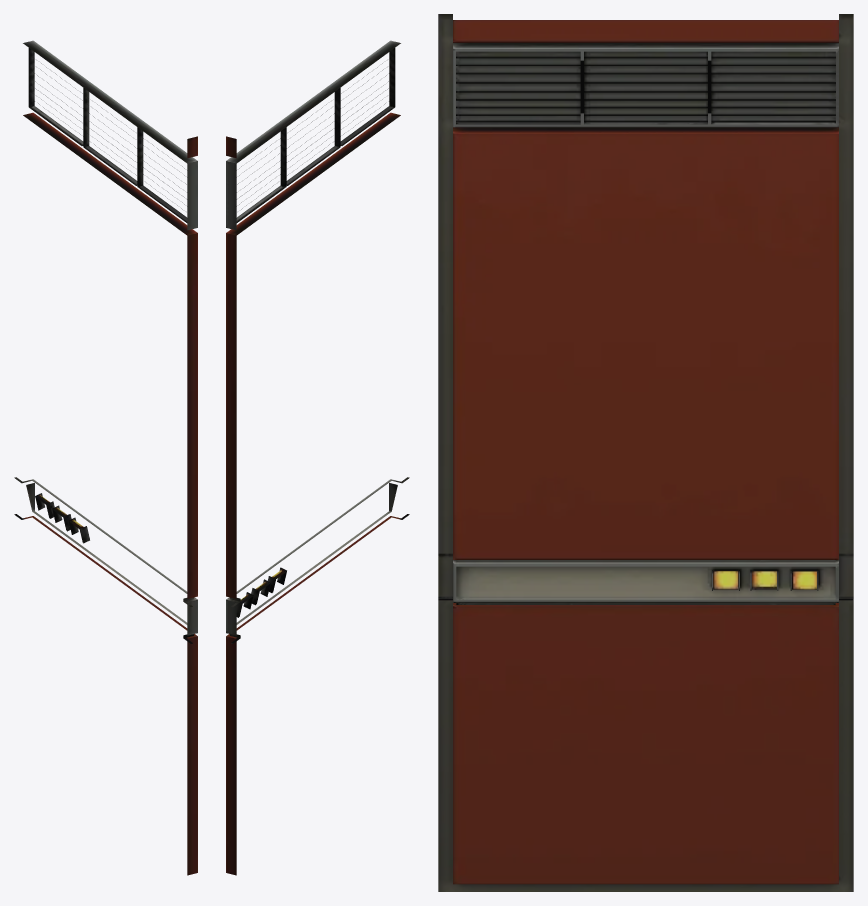
3 renders of one model, left to right at view 1: azimuth 30°, elevation 25°; view 2: azimuth 150°, elevation 25°; view 3: azimuth 270°, elevation 25°, orthographic. The views are drawn at different scales.
Parts seen in each view (by area): view 1: body0_model0_lod0_mesh0; view 2: body0_model0_lod0_mesh0; view 3: body0_model0_lod0_mesh0.
Boxes of the visible parts, bbox=[...] form: body0_model0_lod0_mesh0: bbox=[14, 40, 197, 875]; body0_model0_lod0_mesh0: bbox=[226, 40, 409, 875]; body0_model0_lod0_mesh0: bbox=[438, 14, 853, 891].
Bounding box in the file's own units: 2.49 × 112 × 47.99.
1 material, 1 textured.
